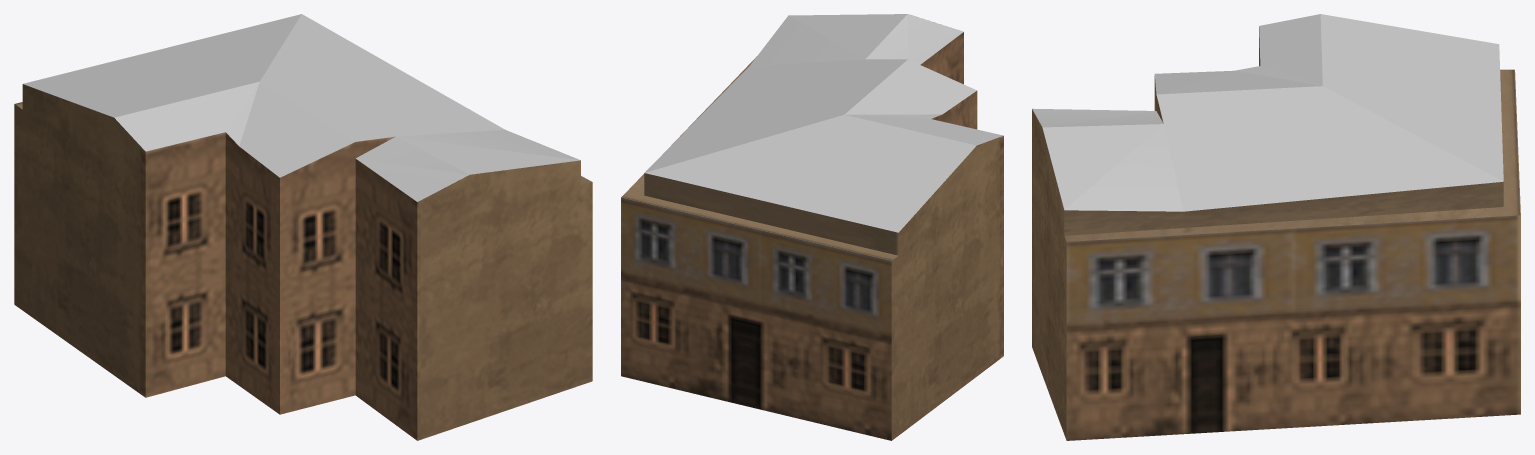
File: Cours_commune_1880.dae
3 views of the same model, side by side, from view 1: azimuth 30°, elevation 25°; view 2: azimuth 150°, elevation 25°; view 3: azimuth 270°, elevation 25° (orthographic). The views are drawn at different scales.
Parts seen in each view (by area): view 1: Angle_Batiment_angle, Angle_Toit; view 2: Angle_Batiment_angle, Angle_Toit; view 3: Angle_Batiment_angle, Angle_Toit.
Part boxes in pixels (x1,y1,x2,y2): Angle_Batiment_angle: (14,84,592,440); Angle_Toit: (23,14,580,201); Angle_Batiment_angle: (621,32,1003,440); Angle_Toit: (644,14,1003,232); Angle_Batiment_angle: (1032,27,1520,440); Angle_Toit: (1032,14,1503,211).
Bounding box in the file's own units: 17.49 × 20.98 × 12.19.
